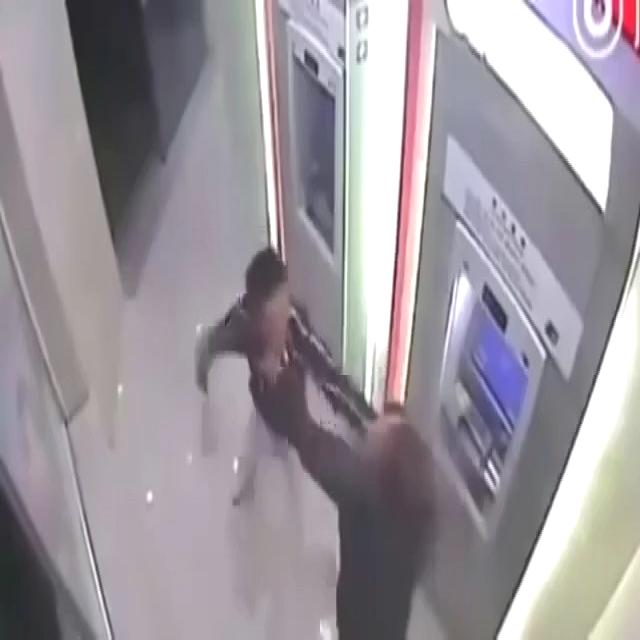fight: (183, 185, 438, 640)
